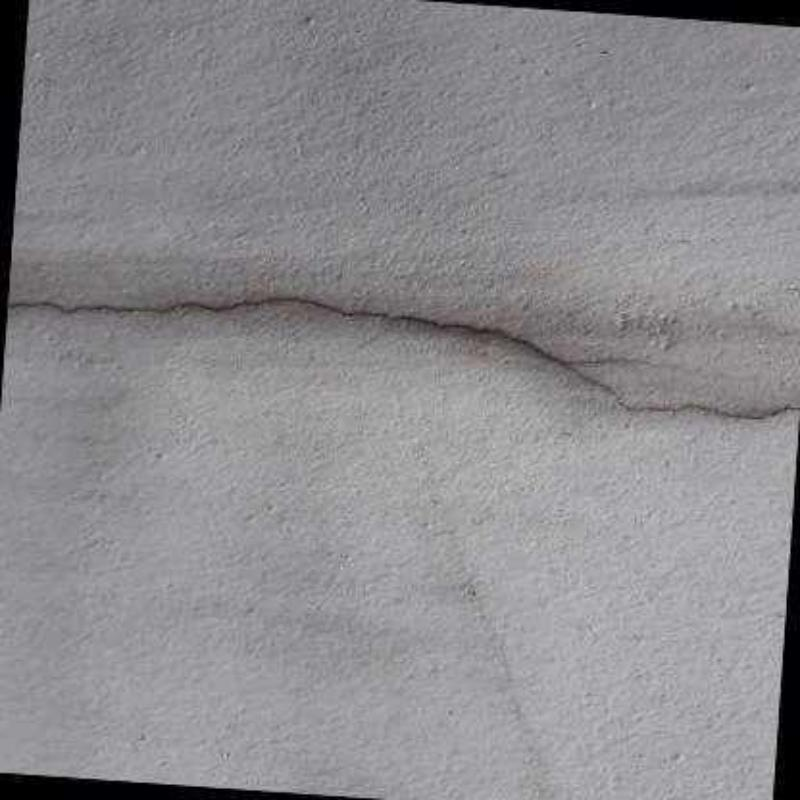crack: (5, 293, 800, 423)
